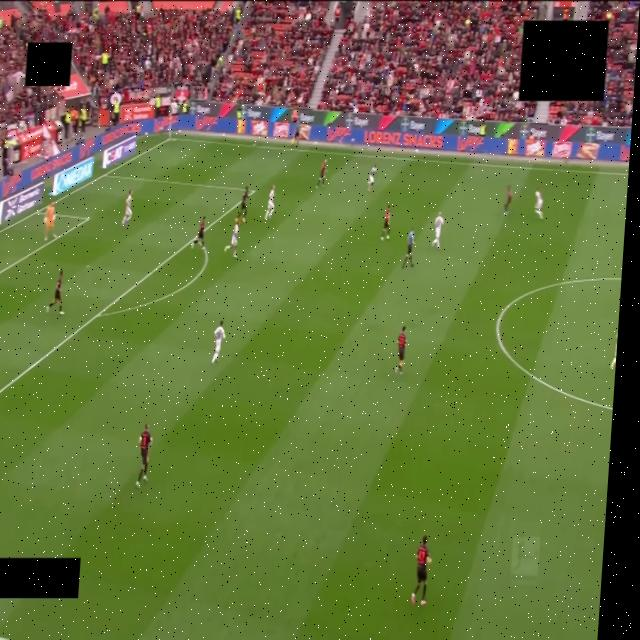ball: (415, 148, 419, 152)
player: (411, 536, 431, 606), (136, 424, 152, 488), (46, 271, 63, 315), (212, 320, 225, 365), (395, 326, 406, 375), (225, 218, 238, 257), (44, 203, 56, 241), (192, 216, 205, 249), (433, 212, 443, 249), (265, 185, 275, 220), (122, 190, 132, 225), (240, 186, 249, 223), (381, 205, 390, 239), (316, 160, 326, 188), (368, 165, 377, 191), (504, 186, 512, 215), (535, 191, 543, 219), (611, 356, 616, 368)
referee: (402, 228, 414, 268)
